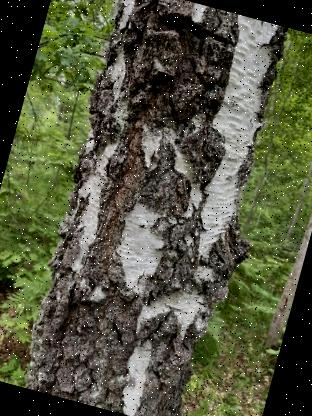tree: (9, 0, 301, 416)
